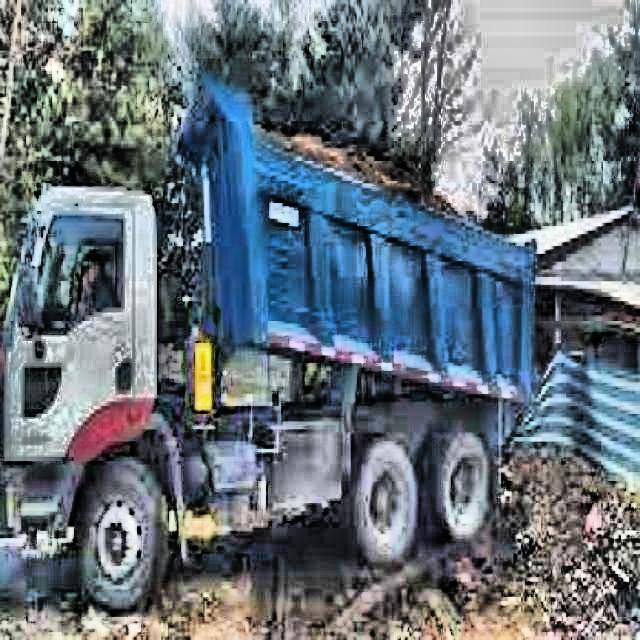dump_truck: (0, 54, 537, 616)
